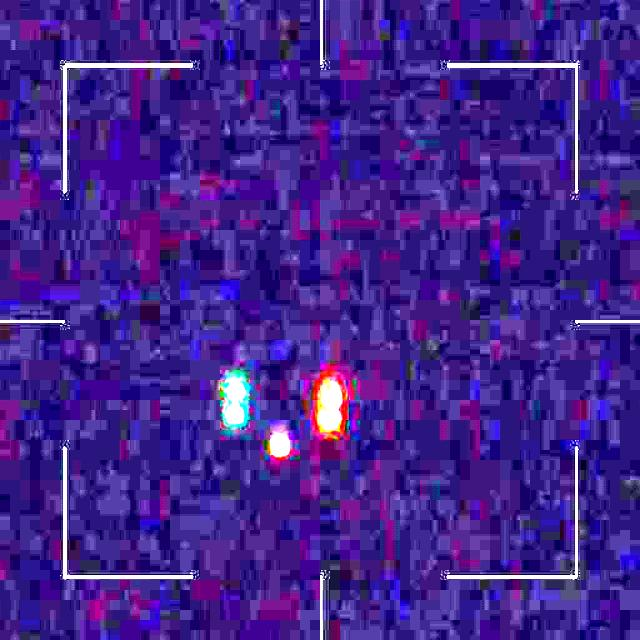bird: (225, 371, 344, 456)
